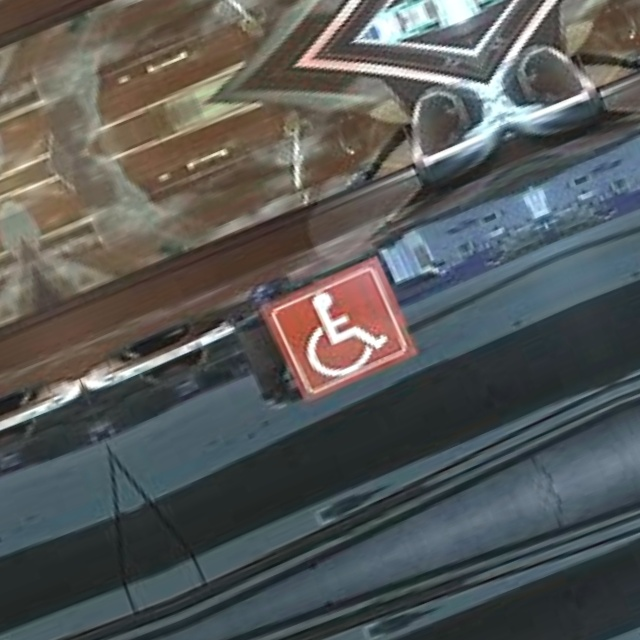ISA: (275, 272, 406, 394)
